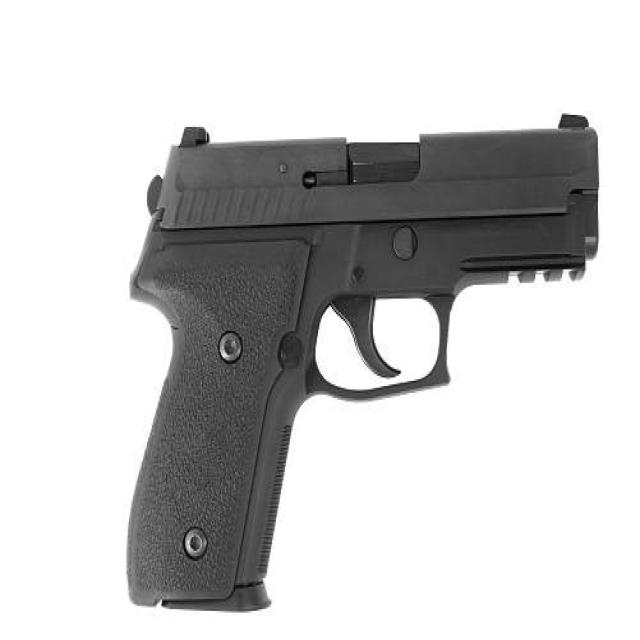pistol: (115, 101, 610, 619)
